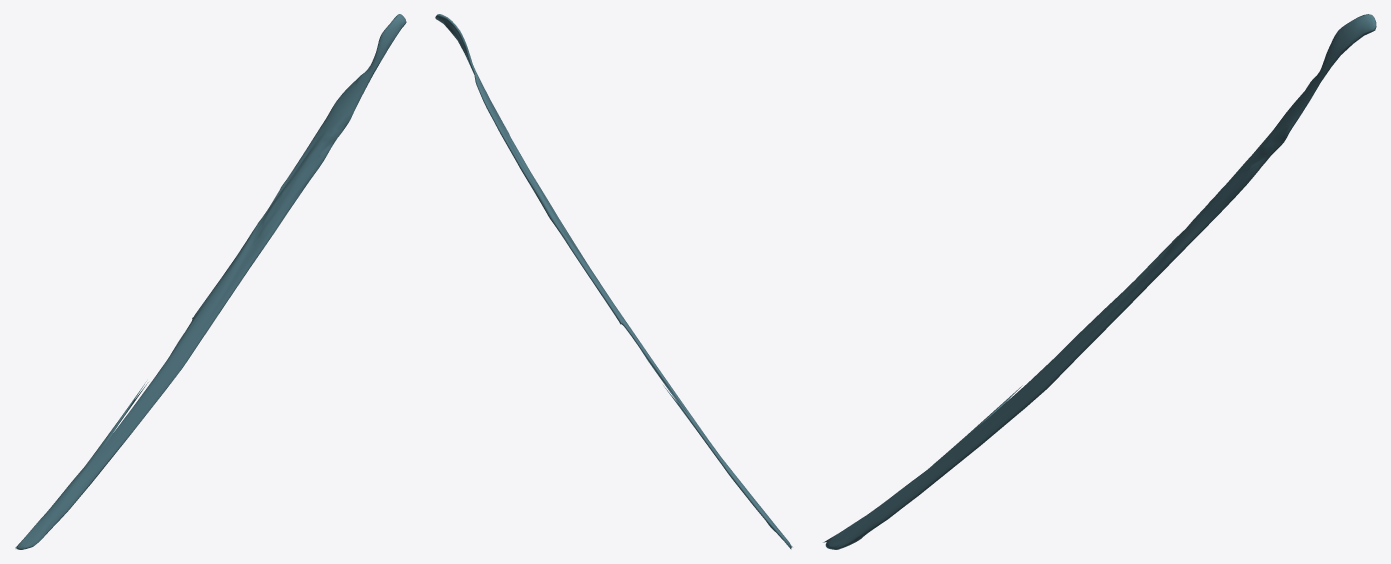
Rendered from External_abdominal_oblique_on_inguinal_ligament.l_Generated_Mes.glb.
The picture shows the model from 3 angles, left to right: view 1: azimuth 30°, elevation 25°; view 2: azimuth 150°, elevation 25°; view 3: azimuth 330°, elevation 25°; orthographic projection. The views are drawn at different scales.
Visible parts, largest first — view 1: External_abdominal_oblique_on_inguinal_ligament.l_Generated_; view 2: External_abdominal_oblique_on_inguinal_ligament.l_Generated_; view 3: External_abdominal_oblique_on_inguinal_ligament.l_Generated_.
Part boxes in pixels (x1,y1,x2,y2): External_abdominal_oblique_on_inguinal_ligament.l_Generated_: (15,14,406,549); External_abdominal_oblique_on_inguinal_ligament.l_Generated_: (435,14,792,549); External_abdominal_oblique_on_inguinal_ligament.l_Generated_: (823,14,1376,549).
Bounding box in the file's own units: 0.0689 × 0.0784 × 0.00498.
